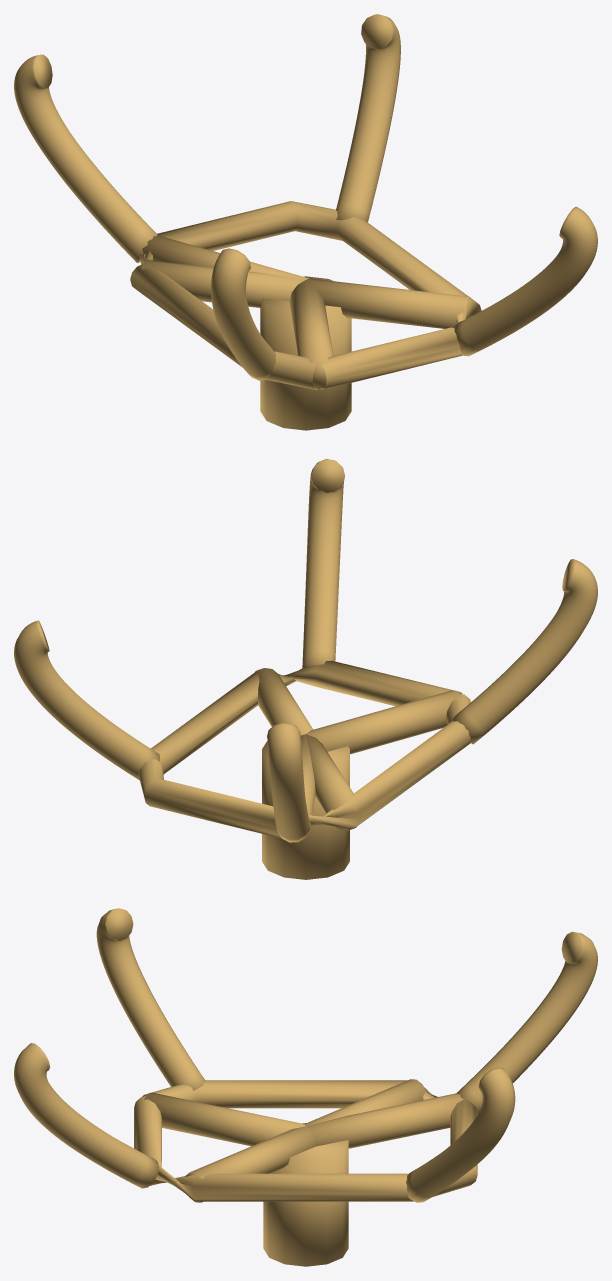
Rendered from stuller-lg-500060535-4-prong.glb.
3 renders of one model, top to bottom at view 1: azimuth 30°, elevation 25°; view 2: azimuth 150°, elevation 25°; view 3: azimuth 270°, elevation 25°, orthographic. The views are drawn at different scales.
Parts seen in each view (by area): view 1: Metal.067, Metal.073, Metal.072, Metal.075, Metal.066, Metal.068, Metal.074, Metal.071, Metal.070, Metal.069; view 2: Metal.067, Metal.074, Metal.075, Metal.072, Metal.066, Metal.071, Metal.073, Metal.068, Metal.070, Metal.069; view 3: Metal.067, Metal.066, Metal.074, Metal.075, Metal.073, Metal.072, Metal.069, Metal.071, Metal.068, Metal.070.
Part boxes in pixels (x1,y1,x2,y2): Metal.067: (130,201,481,389); Metal.073: (14,54,157,262); Metal.072: (336,14,400,222); Metal.075: (452,206,597,356); Metal.066: (260,276,351,430); Metal.068: (306,278,470,328); Metal.074: (211,248,275,380); Metal.071: (289,280,333,390); Metal.070: (141,260,305,307); Metal.069: (139,235,309,279); Metal.067: (138,661,470,838); Metal.074: (452,559,597,744); Metal.075: (302,459,344,667); Metal.072: (14,620,160,780); Metal.066: (262,741,349,879); Metal.071: (306,690,462,754); Metal.073: (267,722,309,842); Metal.068: (254,668,313,735); Metal.070: (306,734,357,830); Metal.069: (300,734,315,834); Metal.067: (134,1080,477,1201); Metal.066: (263,1123,348,1266); Metal.074: (96,908,204,1090); Metal.075: (14,1043,159,1188); Metal.073: (456,931,597,1114); Metal.072: (406,1067,515,1202); Metal.069: (306,1093,463,1148); Metal.071: (144,1092,305,1146); Metal.068: (185,1126,315,1202); Metal.070: (304,1079,426,1125).
Size of the model in its own units: 5.95 by 4.06 by 8.24.
